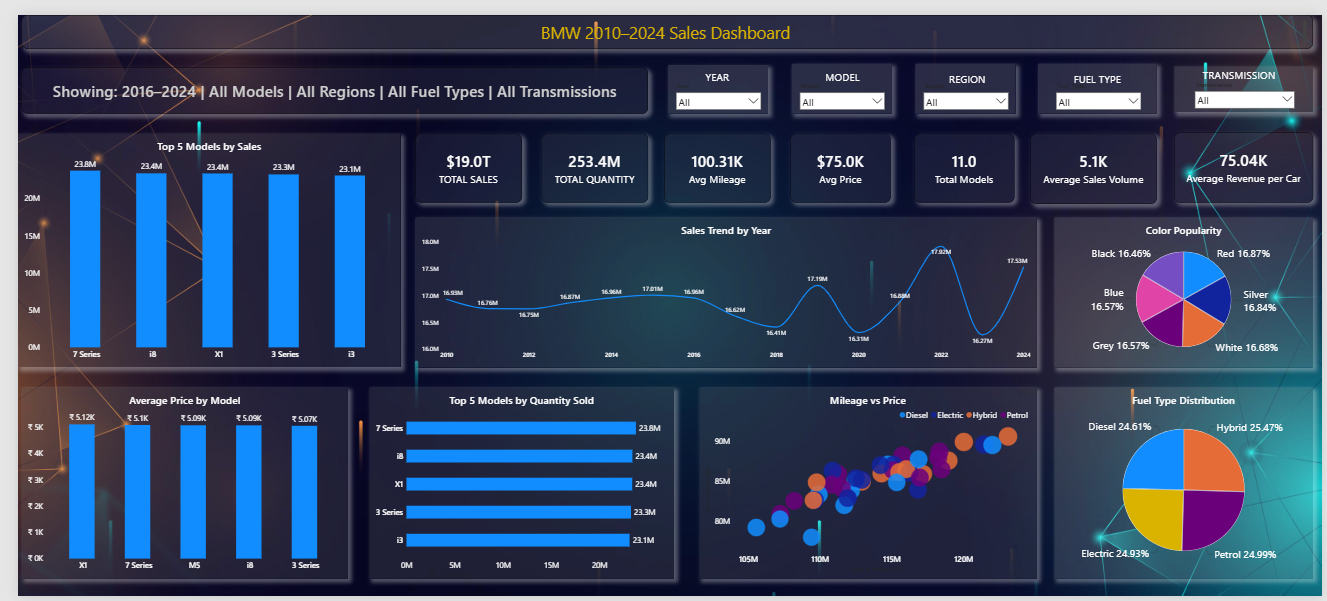

The page's visual inventory and layout, read from the dashboard file:
{"tool":"powerbi","page":{"name":"Page 1","canvas":[3400,1500],"ordinal":0},"visuals":[{"type":"shape","box":[1996.8,125.8,258.1,129],"z":0},{"type":"clusteredColumnChart","title":"Top 5 Models by Sales","fields":{"Category":["BMW sales data (2010-2024) (1).Model"],"Y":["Sum(BMW sales data (2010-2024) (1).Sales_Volume)"]},"box":[0,306.5,987.1,603.2],"z":1000},{"type":"clusteredColumnChart","title":"Average Price by Model","fields":{"Category":["BMW sales data (2010-2024) (1).Model"],"Y":["Avg(BMW sales data (2010-2024) (1).Sales_Volume)"]},"box":[9.7,961.3,841.9,493.5],"z":2000},{"type":"cardVisual","fields":{"Data":["BMW sales data (2010-2024) (1).Total sales"]},"box":[1025.8,306.5,274.2,177.4],"z":3000},{"type":"cardVisual","fields":{"Data":["Sum(BMW sales data (2010-2024) (1).Sales_Volume)"]},"box":[1351.6,306.5,274.2,177.4],"z":4000},{"type":"cardVisual","fields":{"Data":["BMW sales data (2010-2024) (1).Avg Mileage"]},"box":[1667.7,306.5,274.2,177.4],"z":5000},{"type":"cardVisual","fields":{"Data":["BMW sales data (2010-2024) (1).Avg Price"]},"box":[1993.5,306.5,258.1,177.4],"z":6000},{"type":"cardVisual","fields":{"Data":["BMW sales data (2010-2024) (1).Total Cars"]},"box":[2312.9,306.5,258.1,177.4],"z":7000},{"type":"clusteredBarChart","title":"Top 5 Models by Quantity Sold","fields":{"Category":["BMW sales data (2010-2024) (1).Model"],"Y":["BMW sales data (2010-2024) (1).Total Quantity"]},"box":[906.5,961.3,787.1,493.5],"z":8000},{"type":"scatterChart","title":"Mileage vs Price","fields":{"Category":["BMW sales data (2010-2024) (1).Model"],"Series":["BMW sales data (2010-2024) (1).Fuel_Type"],"Size":["Sum(BMW sales data (2010-2024) (1).Sales_Volume)"],"X":["Sum(BMW sales data (2010-2024) (1).Mileage_KM)"],"Y":["Sum(BMW sales data (2010-2024) (1).Price_USD)"]},"box":[1758.1,961.3,871,493.5],"z":9000},{"type":"lineChart","title":"Sales Trend by Year","fields":{"Category":["BMW sales data (2010-2024) (1).Year"],"Y":["Sum(BMW sales data (2010-2024) (1).Sales_Volume)"]},"box":[1025.8,522.6,1603.2,387.1],"z":10000},{"type":"pieChart","title":"Fuel Type Distribution","fields":{"Category":["BMW sales data (2010-2024) (1).Fuel_Type"],"Y":["Sum(BMW sales data (2010-2024) (1).Sales_Volume)"]},"box":[2674.2,961.3,667.7,493.5],"z":11000},{"type":"pieChart","title":"Color Popularity","fields":{"Category":["BMW sales data (2010-2024) (1).Color"],"Y":["Sum(BMW sales data (2010-2024) (1).Sales_Volume)"]},"box":[2674.2,522.6,667.7,387.1],"z":12000},{"type":"cardVisual","fields":{"Data":["BMW sales data (2010-2024) (1).ASV"]},"box":[2612.9,306.5,325.8,180.6],"z":13000},{"type":"cardVisual","fields":{"Data":["BMW sales data (2010-2024) (1).Average Revenue Per Car"]},"box":[2983.9,303.2,358.1,180.6],"z":14000},{"type":"textbox","box":[2012.9,132.3,229,58.1],"z":15000},{"type":"slicer","fields":{"Values":["BMW sales data (2010-2024) (1).Model"]},"box":[2012.9,171,229,83.9],"z":16000},{"type":"shape","box":[1677.4,129,258.1,125.8],"z":17000},{"type":"shape","box":[2316.1,125.8,258.1,129],"z":18000},{"type":"shape","box":[2632.3,125.8,306.5,129],"z":19000},{"type":"shape","box":[2983.9,132.3,358.1,119.4],"z":20000},{"type":"textbox","box":[1690.3,125.8,229,58.1],"z":21000},{"type":"textbox","box":[2335.5,135.5,229,58.1],"z":22000},{"type":"textbox","box":[2671,135.5,229,58.1],"z":23000},{"type":"textbox","box":[3016.1,125.8,271,58.1],"z":24000},{"type":"slicer","fields":{"Values":["BMW sales data (2010-2024) (1).Year"]},"box":[1693.5,171,229,83.9],"z":25000},{"type":"slicer","fields":{"Values":["BMW sales data (2010-2024) (1).Region"]},"box":[2332.3,171,229,83.9],"z":26000},{"type":"slicer","fields":{"Values":["BMW sales data (2010-2024) (1).Fuel_Type"]},"box":[2674.2,171,229,83.9],"z":27000},{"type":"slicer","fields":{"Values":["BMW sales data (2010-2024) (1).Transmission"]},"box":[3032.3,167.7,267.7,83.9],"z":28000},{"type":"textbox","box":[9.7,0,3332.3,87.1],"z":29000},{"type":"cardVisual","fields":{"Data":["BMW sales data (2010-2024) (1).Dashboard Subtitle"]},"box":[9.7,135.5,1616.1,119.4],"z":30000}]}

Visuals, with their boxes in screenshot pixels (x1, y1, x2, y2), scaled from the page's 3400x1500 canvas onto the 1327x601 screenshot:
shape: bbox=[779, 50, 880, 102]
"Top 5 Models by Sales" clusteredColumnChart: bbox=[0, 123, 385, 364]
"Average Price by Model" clusteredColumnChart: bbox=[4, 385, 332, 583]
cardVisual - BMW sales data (2010-2024) (1).Total sales: bbox=[400, 123, 507, 194]
cardVisual - Sum(BMW sales data (2010-2024) (1).Sales_Volume): bbox=[528, 123, 635, 194]
cardVisual - BMW sales data (2010-2024) (1).Avg Mileage: bbox=[651, 123, 758, 194]
cardVisual - BMW sales data (2010-2024) (1).Avg Price: bbox=[778, 123, 879, 194]
cardVisual - BMW sales data (2010-2024) (1).Total Cars: bbox=[903, 123, 1003, 194]
"Top 5 Models by Quantity Sold" clusteredBarChart: bbox=[354, 385, 661, 583]
"Mileage vs Price" scatterChart: bbox=[686, 385, 1026, 583]
"Sales Trend by Year" lineChart: bbox=[400, 209, 1026, 364]
"Fuel Type Distribution" pieChart: bbox=[1044, 385, 1304, 583]
"Color Popularity" pieChart: bbox=[1044, 209, 1304, 364]
cardVisual - BMW sales data (2010-2024) (1).ASV: bbox=[1020, 123, 1147, 195]
cardVisual - BMW sales data (2010-2024) (1).Average Revenue Per Car: bbox=[1165, 121, 1304, 194]
textbox: bbox=[786, 53, 875, 76]
slicer - BMW sales data (2010-2024) (1).Model: bbox=[786, 69, 875, 102]
shape: bbox=[655, 52, 755, 102]
shape: bbox=[904, 50, 1005, 102]
shape: bbox=[1027, 50, 1147, 102]
shape: bbox=[1165, 53, 1304, 101]
textbox: bbox=[660, 50, 749, 74]
textbox: bbox=[912, 54, 1001, 78]
textbox: bbox=[1042, 54, 1132, 78]
textbox: bbox=[1177, 50, 1283, 74]
slicer - BMW sales data (2010-2024) (1).Year: bbox=[661, 69, 750, 102]
slicer - BMW sales data (2010-2024) (1).Region: bbox=[910, 69, 1000, 102]
slicer - BMW sales data (2010-2024) (1).Fuel_Type: bbox=[1044, 69, 1133, 102]
slicer - BMW sales data (2010-2024) (1).Transmission: bbox=[1183, 67, 1288, 101]
textbox: bbox=[4, 0, 1304, 35]
cardVisual - BMW sales data (2010-2024) (1).Dashboard Subtitle: bbox=[4, 54, 635, 102]
